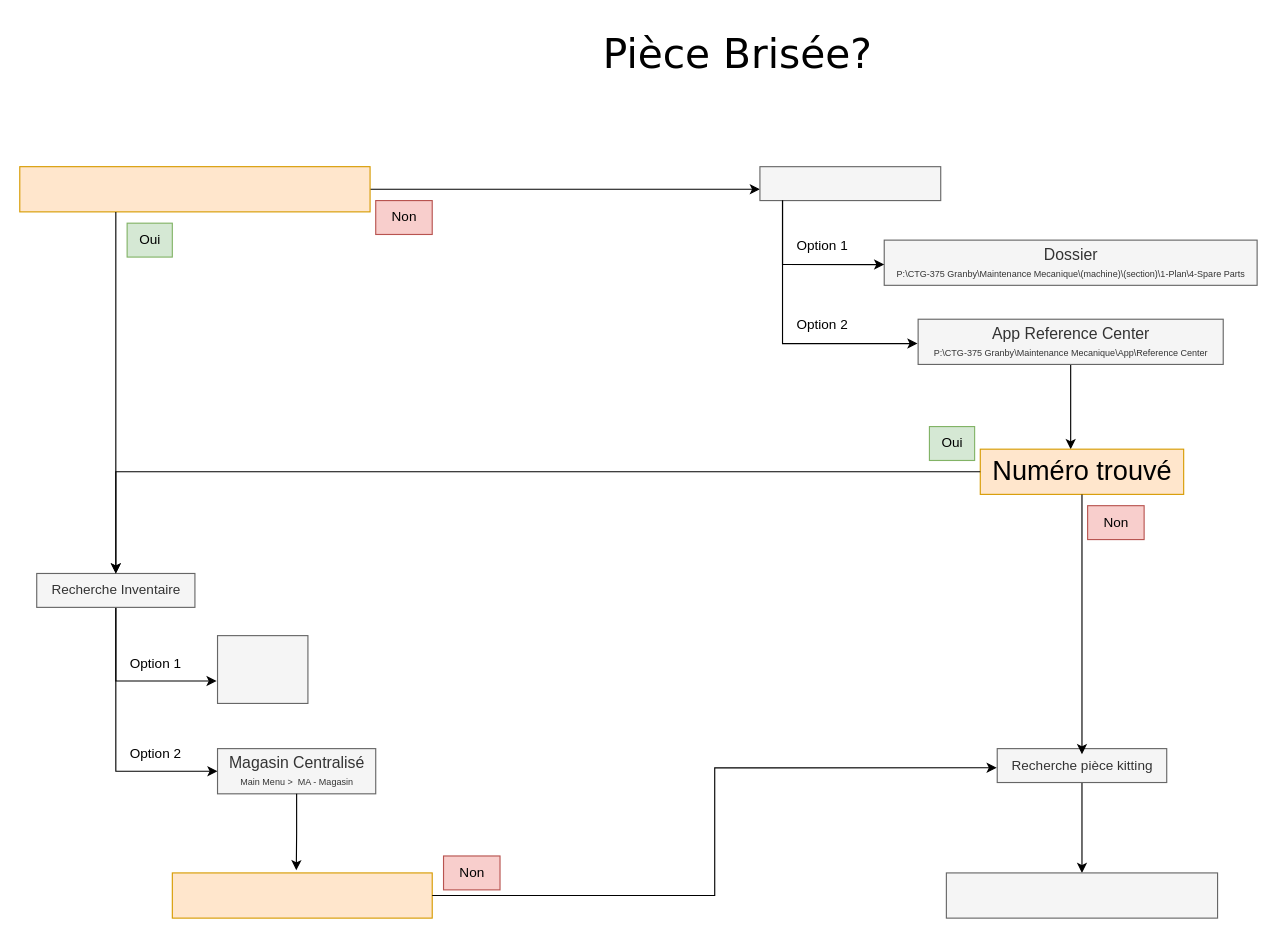
The diagram is 1277 pixels wide and 938 high, and some of its shapes have lost their labels. Each missing label, with the centre of its shape:
"CAS097 Menu 9005 Option 511" goes at point 262,668.
"Clearview P:\CTG-375 Granby\Maintenance Mecanique\App\Clearview" goes at point 1081,895.
"Numéro de pièce en main?" goes at point 194,189.
"Pièce en inventaire" goes at point 301,895.
"Recherche plan machine" goes at point 850,183.
